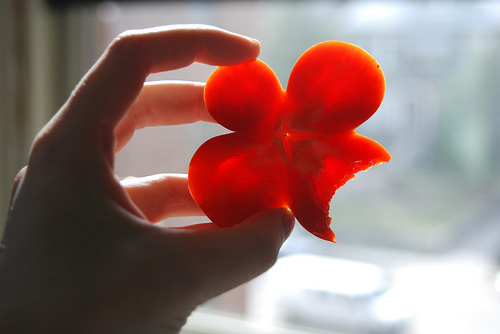capsicum: (187, 39, 393, 244)
